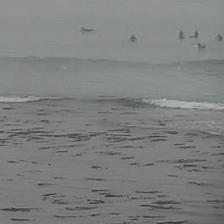surfer: (128, 34, 137, 42), (196, 42, 206, 49), (215, 34, 223, 42), (80, 28, 94, 32), (178, 30, 184, 39), (192, 30, 199, 37)
